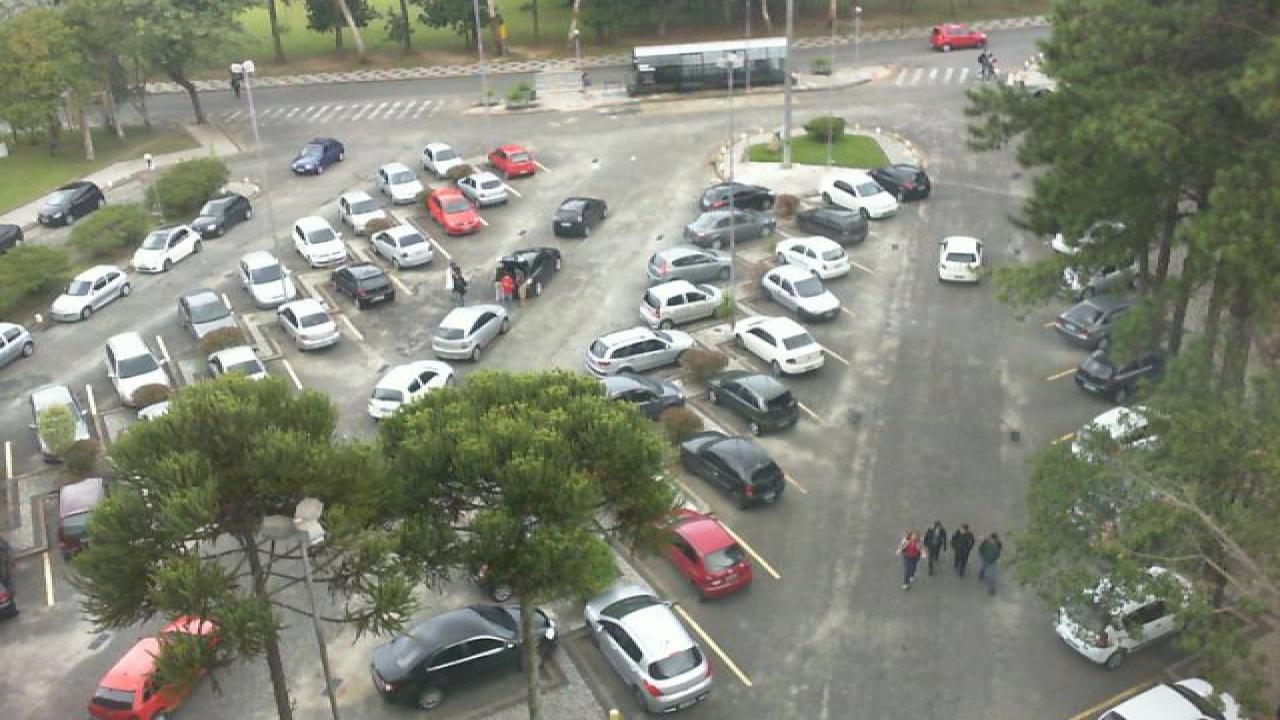Car: (368, 603, 556, 709), (582, 585, 714, 713), (88, 614, 222, 719), (1054, 575, 1182, 667), (646, 506, 754, 600), (676, 431, 788, 508), (708, 372, 804, 436), (734, 316, 830, 378), (584, 326, 692, 380), (364, 361, 454, 421), (46, 263, 134, 322), (428, 303, 512, 361), (758, 264, 844, 320), (1076, 352, 1162, 402), (588, 378, 680, 424), (640, 278, 726, 327), (104, 332, 168, 395), (28, 384, 82, 456), (492, 246, 562, 300), (774, 234, 854, 281), (130, 223, 204, 273), (176, 289, 238, 345), (818, 177, 902, 218), (282, 294, 342, 351), (34, 179, 106, 226), (1052, 294, 1122, 342), (646, 243, 732, 282), (326, 264, 396, 310), (686, 208, 774, 244), (422, 187, 486, 236), (368, 225, 438, 269), (292, 215, 348, 269), (188, 192, 252, 238), (796, 205, 868, 244), (240, 250, 294, 302), (868, 161, 932, 201), (206, 343, 268, 384), (698, 181, 776, 212), (550, 197, 606, 237), (290, 136, 346, 176), (936, 236, 984, 282), (338, 185, 390, 225), (456, 169, 512, 206), (484, 142, 540, 179), (376, 163, 424, 201), (422, 142, 468, 176)
